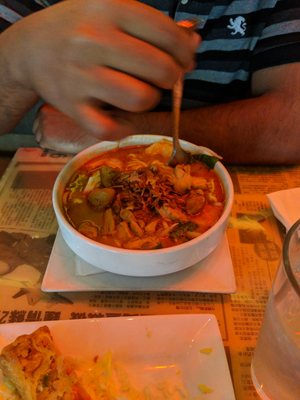pizza: (250, 193, 300, 400)
sushi: (51, 135, 235, 278)
